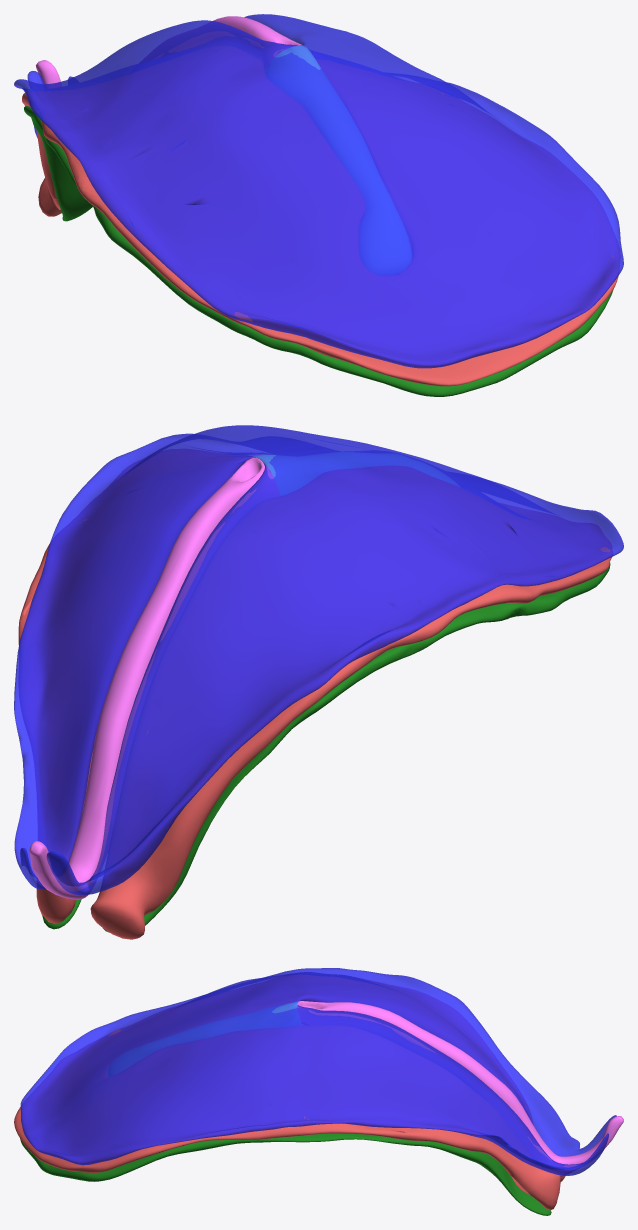
File: Ectoderm.fbx
3 renders of one model, top to bottom at view 1: azimuth 30°, elevation 25°; view 2: azimuth 150°, elevation 25°; view 3: azimuth 270°, elevation 25°, orthographic. The views are drawn at different scales.
Parts seen in each view (by area): view 1: polySurface10, polySurface9, polySurface8, polySurface12; view 2: polySurface10, polySurface12, polySurface9, polySurface8; view 3: polySurface10, polySurface9, polySurface12, polySurface8.
Part boxes in pixels (x1,y1,x2,y2): polySurface10: [14, 14, 623, 368]; polySurface9: [22, 93, 618, 386]; polySurface8: [24, 106, 613, 396]; polySurface12: [36, 16, 305, 84]; polySurface10: [14, 425, 623, 895]; polySurface12: [29, 456, 273, 899]; polySurface9: [18, 480, 611, 939]; polySurface8: [42, 563, 610, 932]; polySurface10: [20, 968, 616, 1175]; polySurface9: [14, 1029, 565, 1210]; polySurface12: [297, 1001, 623, 1177]; polySurface8: [20, 1133, 551, 1215].
Bounding box in the file's own units: 9.44 × 6.29 × 16.5.
